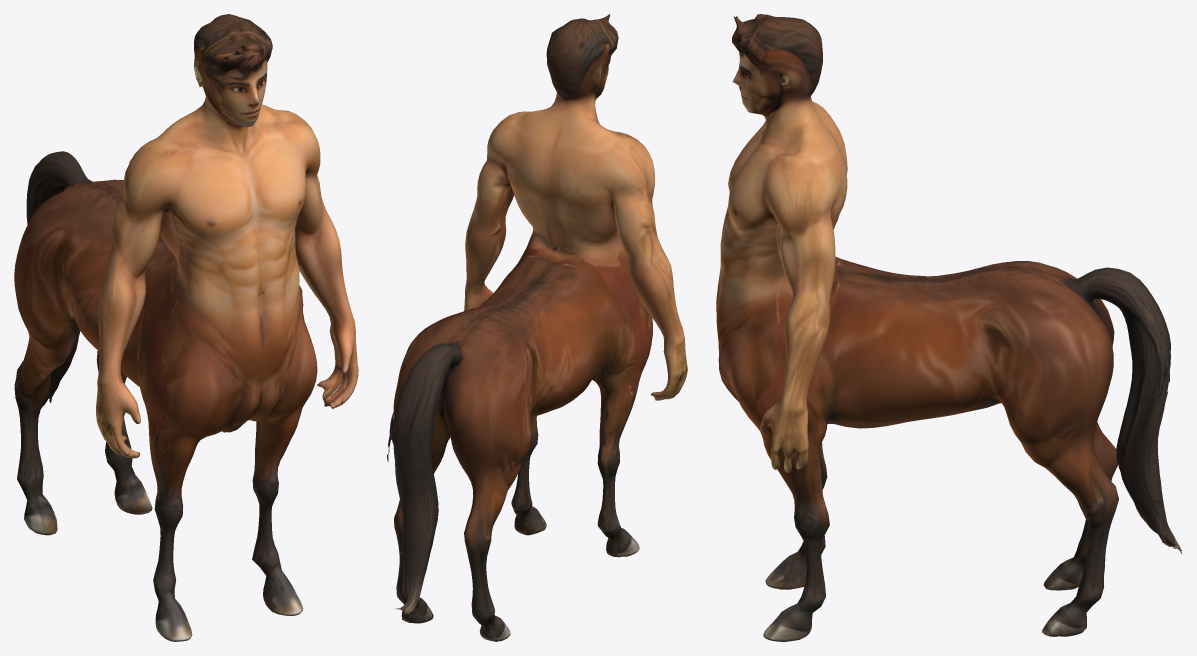
File: Centaur_Strength_0603045946_texture.glb
3 views of the same model, side by side, from view 1: azimuth 30°, elevation 25°; view 2: azimuth 150°, elevation 25°; view 3: azimuth 270°, elevation 25° (orthographic). The views are drawn at different scales.
Bounding box in the file's own units: 0.8767 × 1.99 × 1.42.
Materials: 1 (1 with a texture image).
